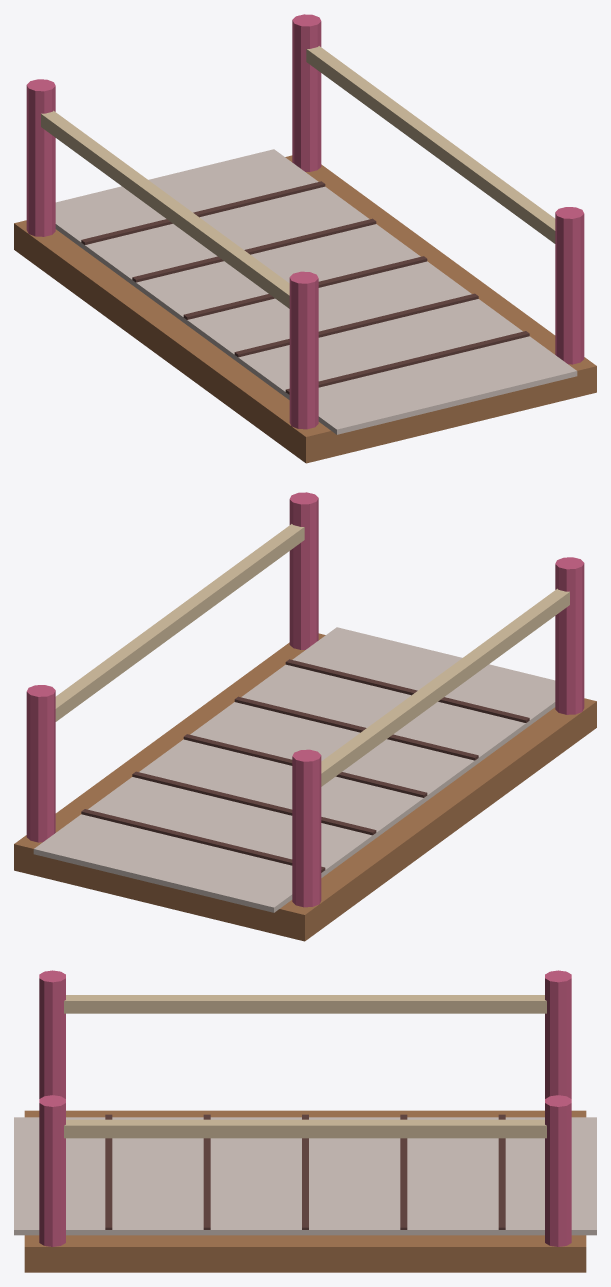
Rendered from Candyland_CookieBridge_Standard.glb.
The picture shows the model from 3 angles, top to bottom: view 1: azimuth 30°, elevation 25°; view 2: azimuth 150°, elevation 25°; view 3: azimuth 270°, elevation 25°; orthographic projection. The views are drawn at different scales.
Parts seen in each view (by area): view 1: Candyland_CookieBridge_Standard; view 2: Candyland_CookieBridge_Standard; view 3: Candyland_CookieBridge_Standard.
Boxes of the visible parts, x1,y1,x2,y2 form: Candyland_CookieBridge_Standard: (14,14,596,463); Candyland_CookieBridge_Standard: (14,492,596,941); Candyland_CookieBridge_Standard: (14,970,596,1272).
Bounding box in the file's own units: 2.3 × 1.3 × 4.15.
